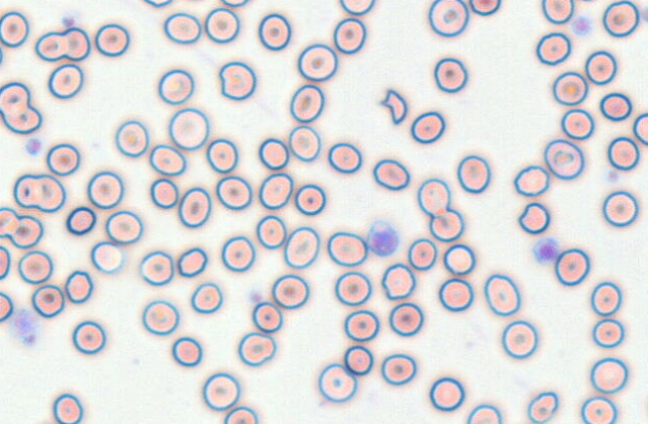PLT: (369, 219, 400, 258), (533, 237, 561, 264), (571, 17, 592, 39), (60, 9, 81, 28), (25, 135, 43, 157)
RBC: (0, 81, 42, 134), (12, 172, 66, 212), (34, 26, 90, 62), (168, 107, 209, 150), (543, 138, 584, 180), (283, 225, 320, 268), (483, 273, 520, 316), (317, 363, 357, 402), (297, 43, 338, 81), (427, 0, 469, 37), (202, 372, 240, 411), (589, 356, 628, 394), (501, 319, 538, 359), (86, 170, 123, 209), (326, 231, 367, 266), (601, 190, 639, 227), (554, 247, 590, 286), (456, 154, 491, 194), (289, 83, 324, 123), (178, 186, 211, 228), (602, 0, 639, 37), (271, 273, 309, 309), (141, 299, 179, 335), (416, 177, 451, 216), (237, 331, 276, 366), (334, 270, 371, 306), (157, 68, 194, 104), (380, 262, 415, 300), (114, 119, 149, 157), (104, 210, 143, 244), (47, 63, 83, 99), (138, 250, 174, 286), (258, 172, 293, 209), (215, 175, 252, 210), (257, 12, 291, 50), (428, 207, 464, 242), (17, 249, 53, 284), (428, 376, 464, 411), (204, 7, 239, 43), (221, 235, 255, 272), (433, 56, 467, 93), (332, 17, 366, 54), (438, 277, 473, 312), (7, 214, 43, 248), (552, 71, 588, 105), (535, 31, 571, 65), (288, 125, 321, 162), (149, 143, 186, 176), (163, 12, 201, 44), (372, 158, 410, 190), (45, 142, 80, 176), (388, 302, 423, 336), (410, 110, 445, 144), (71, 320, 106, 354), (513, 164, 549, 197), (343, 309, 379, 342), (31, 284, 65, 318), (90, 240, 125, 273), (584, 50, 617, 85), (607, 136, 640, 171), (94, 23, 129, 56), (205, 138, 238, 173), (380, 353, 416, 385), (590, 281, 622, 316), (327, 141, 362, 173), (560, 108, 594, 140), (255, 214, 286, 249), (0, 10, 29, 47), (442, 243, 475, 275), (526, 390, 558, 423), (580, 395, 617, 423), (190, 281, 222, 313), (294, 183, 326, 215), (258, 137, 289, 170), (251, 301, 282, 333), (407, 237, 437, 270), (591, 318, 624, 348), (64, 269, 93, 303), (52, 392, 83, 423), (176, 246, 207, 277), (171, 336, 202, 367), (599, 92, 632, 121), (65, 205, 96, 235), (343, 345, 373, 375), (149, 177, 178, 208), (541, 0, 574, 24), (466, 403, 502, 423), (222, 405, 258, 423), (0, 206, 19, 236), (338, 0, 375, 15), (468, 0, 501, 16), (632, 112, 647, 145), (0, 291, 13, 322), (0, 245, 10, 279), (219, 0, 250, 7), (142, 0, 172, 7), (643, 392, 648, 422), (0, 44, 3, 68), (575, 0, 602, 2)
Schistocyte: (219, 60, 256, 101), (518, 201, 549, 234), (380, 88, 408, 124)
